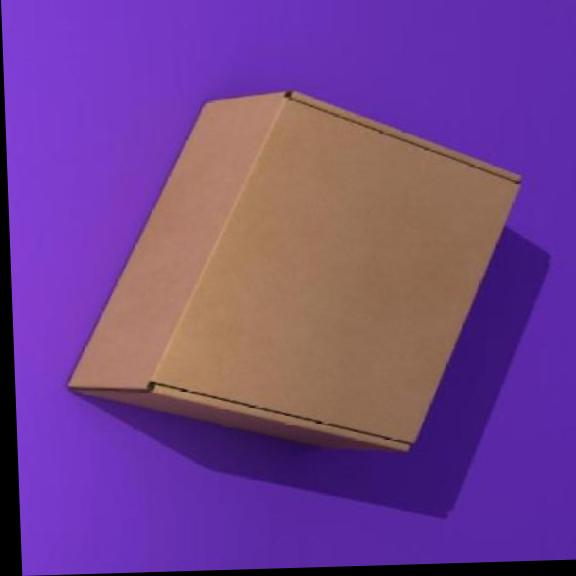Kertas: (69, 91, 519, 451)
